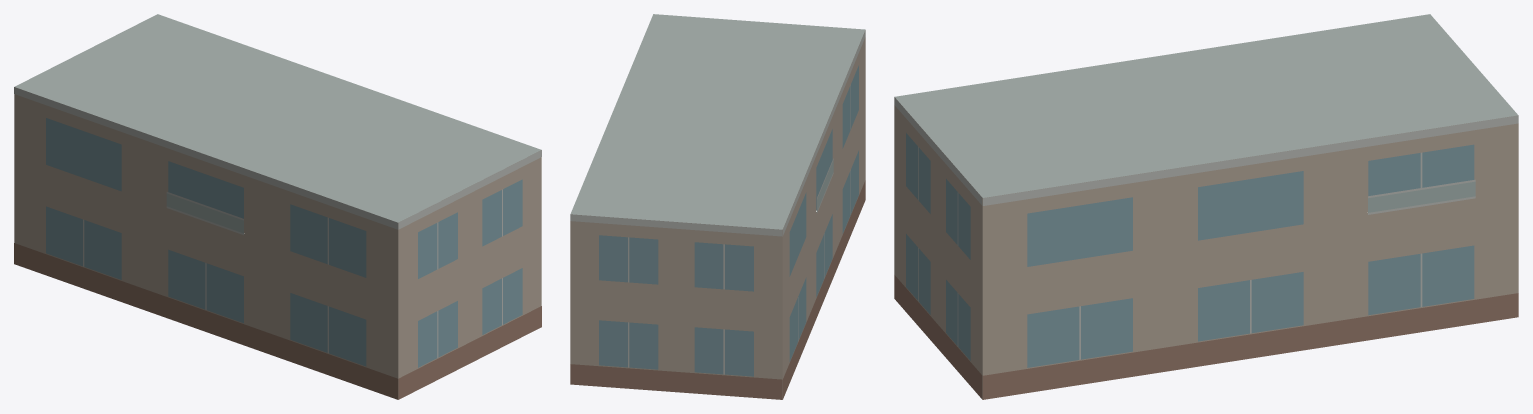
The model's file is survey-upis-32996522.glb.
3 renders of one model, left to right at view 1: azimuth 30°, elevation 25°; view 2: azimuth 150°, elevation 25°; view 3: azimuth 270°, elevation 25°, orthographic. The views are drawn at different scales.
Visible parts, largest first — view 1: survey-upis-32996522.tmp; view 2: survey-upis-32996522.tmp; view 3: survey-upis-32996522.tmp.
Part boxes in pixels (x1,y1,x2,y2): survey-upis-32996522.tmp: [14, 14, 541, 399]; survey-upis-32996522.tmp: [570, 14, 865, 399]; survey-upis-32996522.tmp: [894, 14, 1518, 399].
Bounding box in the file's own units: 11.94 × 6.1 × 17.11.
